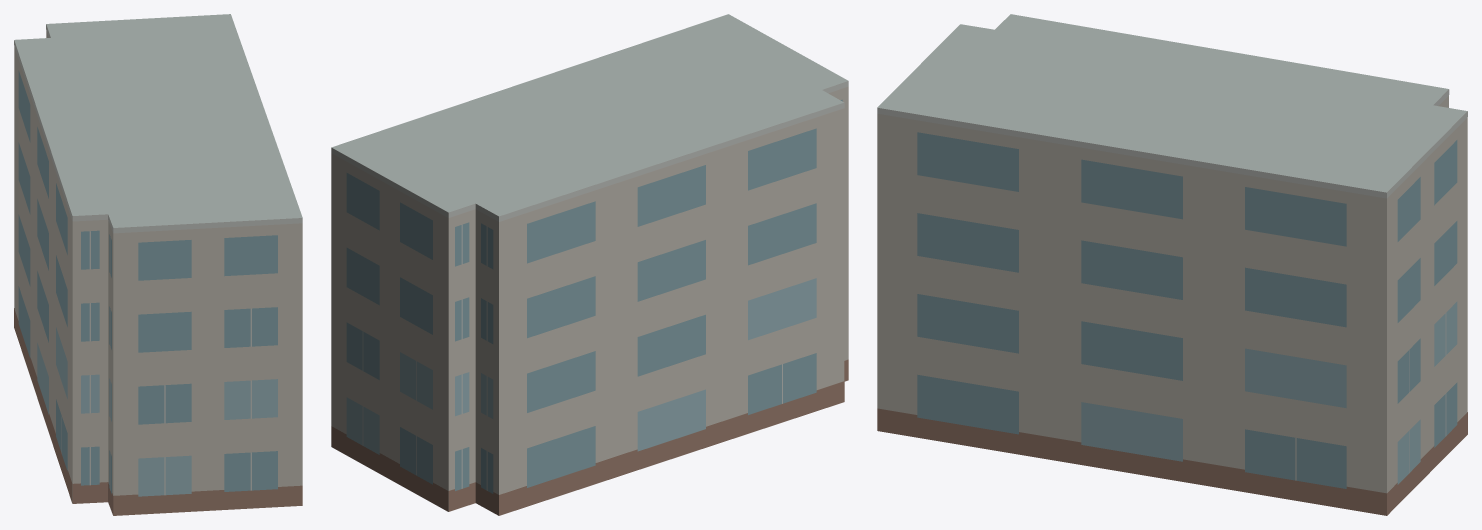
Rendered from survey-upis-32625804.glb.
The picture shows the model from 3 angles, left to right: view 1: azimuth 30°, elevation 25°; view 2: azimuth 150°, elevation 25°; view 3: azimuth 270°, elevation 25°; orthographic projection. The views are drawn at different scales.
Visible parts, largest first — view 1: survey-upis-32625804.tmp; view 2: survey-upis-32625804.tmp; view 3: survey-upis-32625804.tmp.
Boxes of the visible parts, x1,y1,x2,y2 form: survey-upis-32625804.tmp: [14, 14, 302, 515]; survey-upis-32625804.tmp: [331, 14, 848, 515]; survey-upis-32625804.tmp: [877, 14, 1467, 515].
Bounding box in the file's own units: 15.47 × 13.05 × 21.61.
